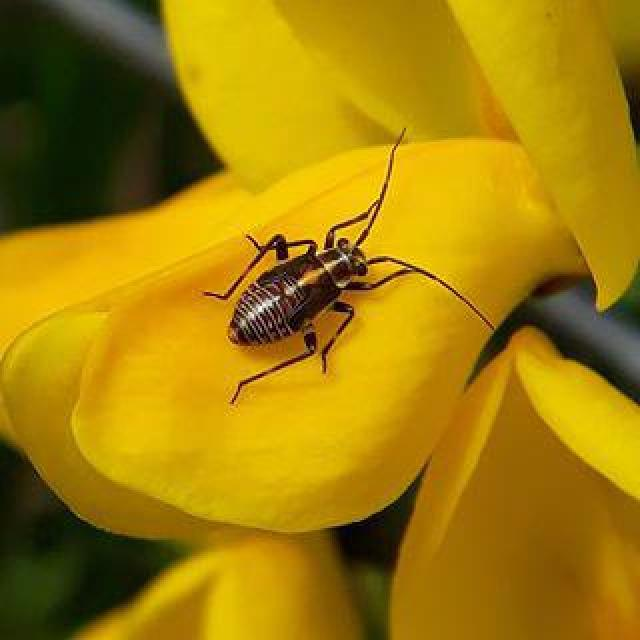Miridae-Adult-: (193, 123, 488, 422)
